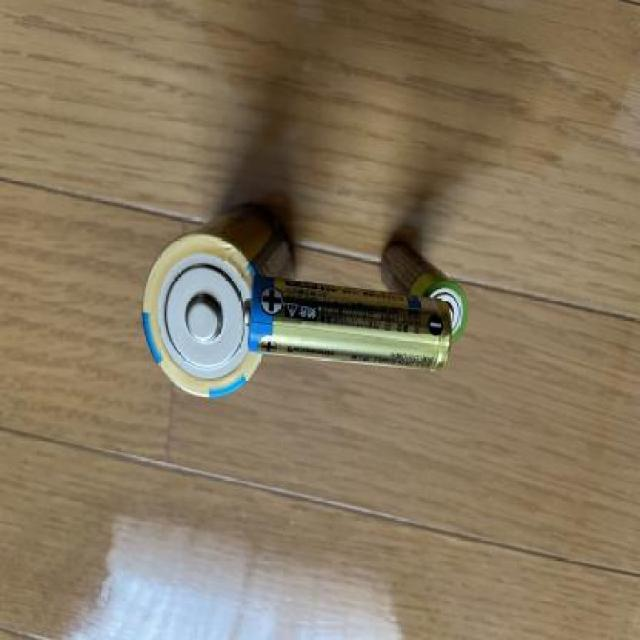hazardous waste: (136, 203, 298, 403), (240, 268, 457, 377), (376, 236, 470, 350)
